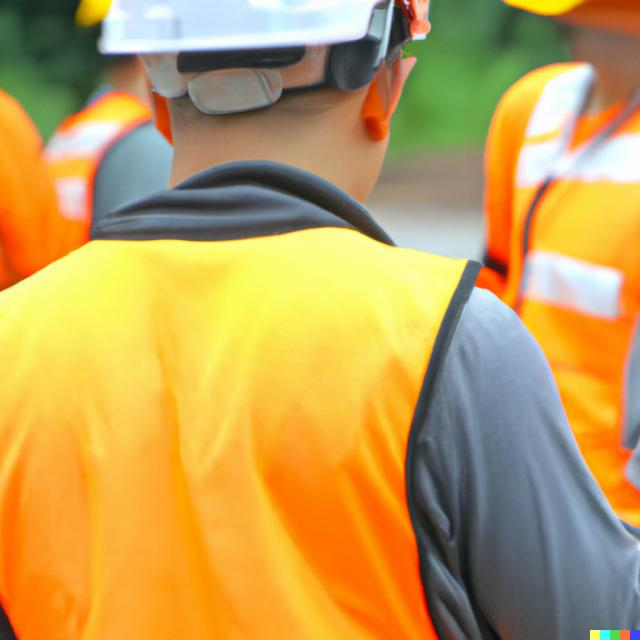Reflective-Jacket: (0, 189, 482, 639), (487, 40, 637, 555)
Safety-Helmet: (95, 0, 441, 57)
